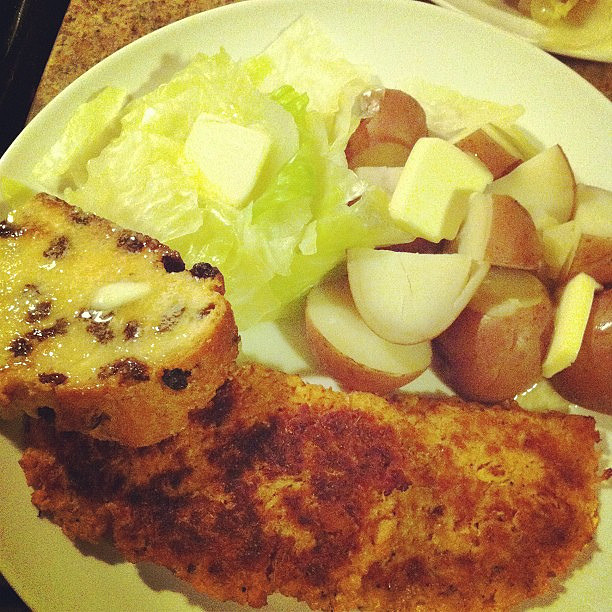boiled potatoes: (350, 99, 612, 385)
chopped lettuce: (70, 50, 351, 292)
slice of bread: (1, 219, 238, 415)
